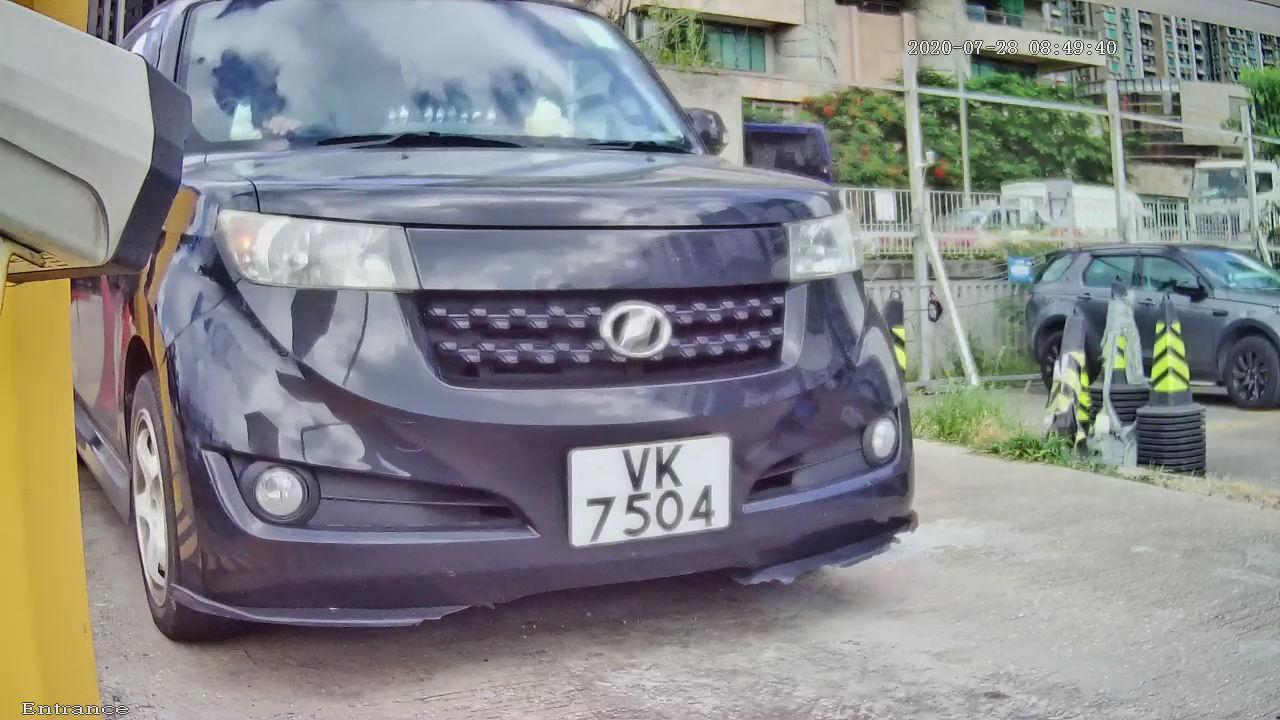privatecar: (35, 13, 1018, 669)
